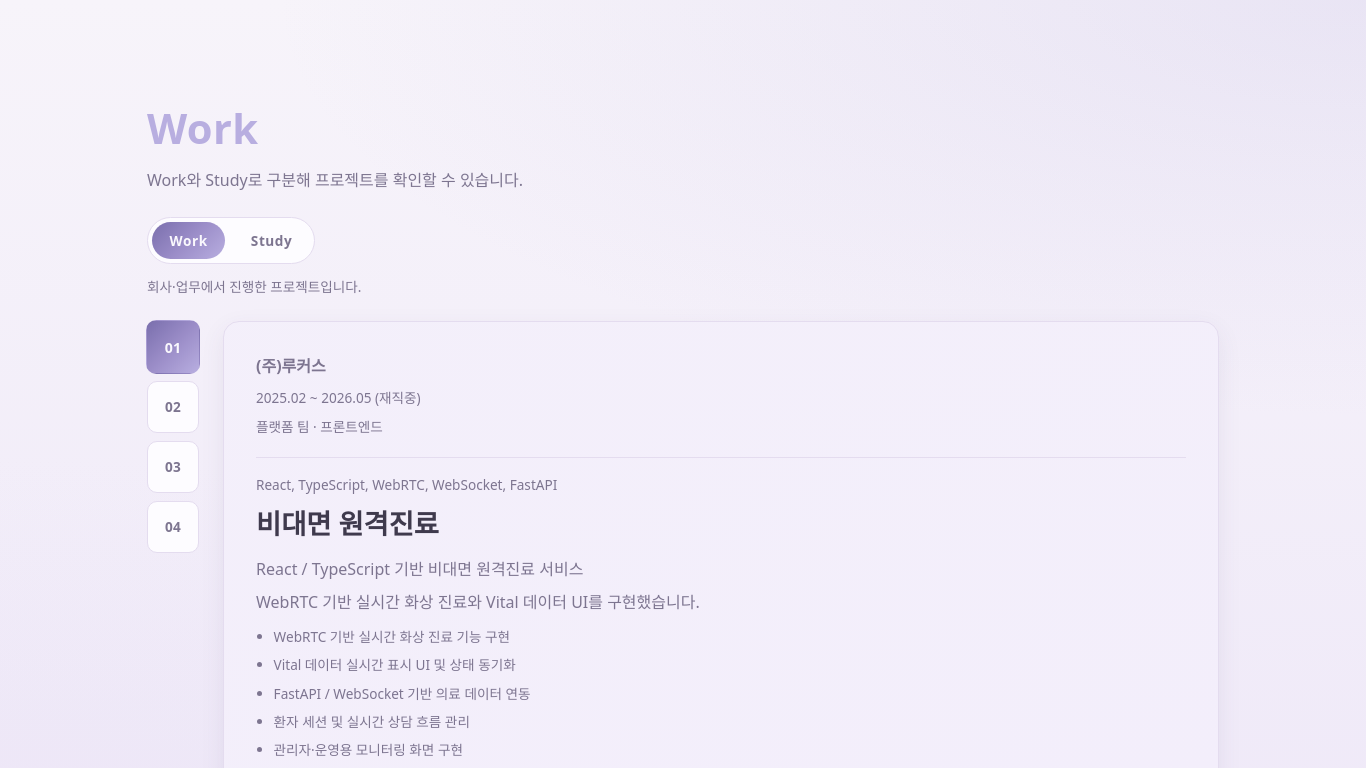
Test: ProjectSection › Study 탭에서 번호 클릭 시 해당 프로젝트만 표시된다
Click the tab "Study".
click(272, 241)  # box [233,222,310,259]
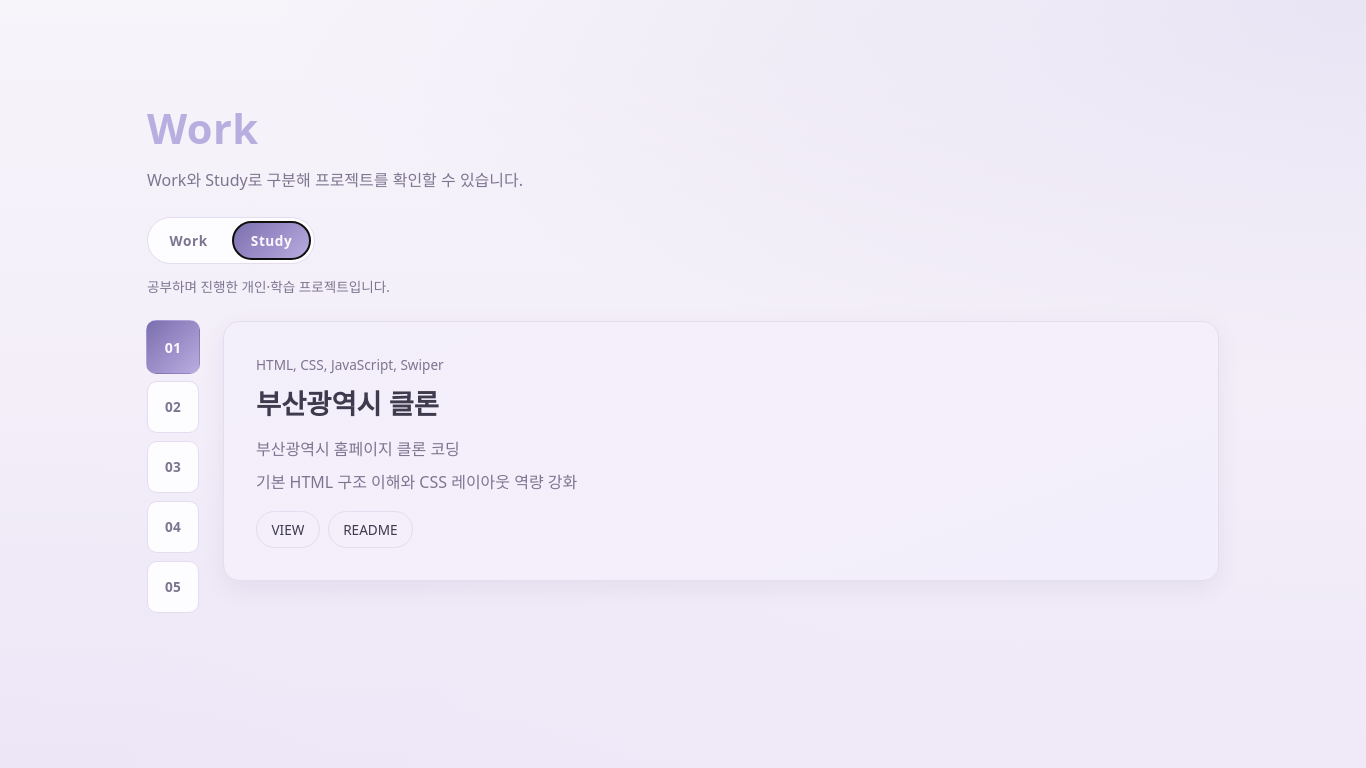
expect the heading "부산광역시 클론" is shown: met, box [256,385,439,422]
Click the button named "TODAY EAT 프로젝트 보기".
click(173, 407)  # box [147,381,199,433]
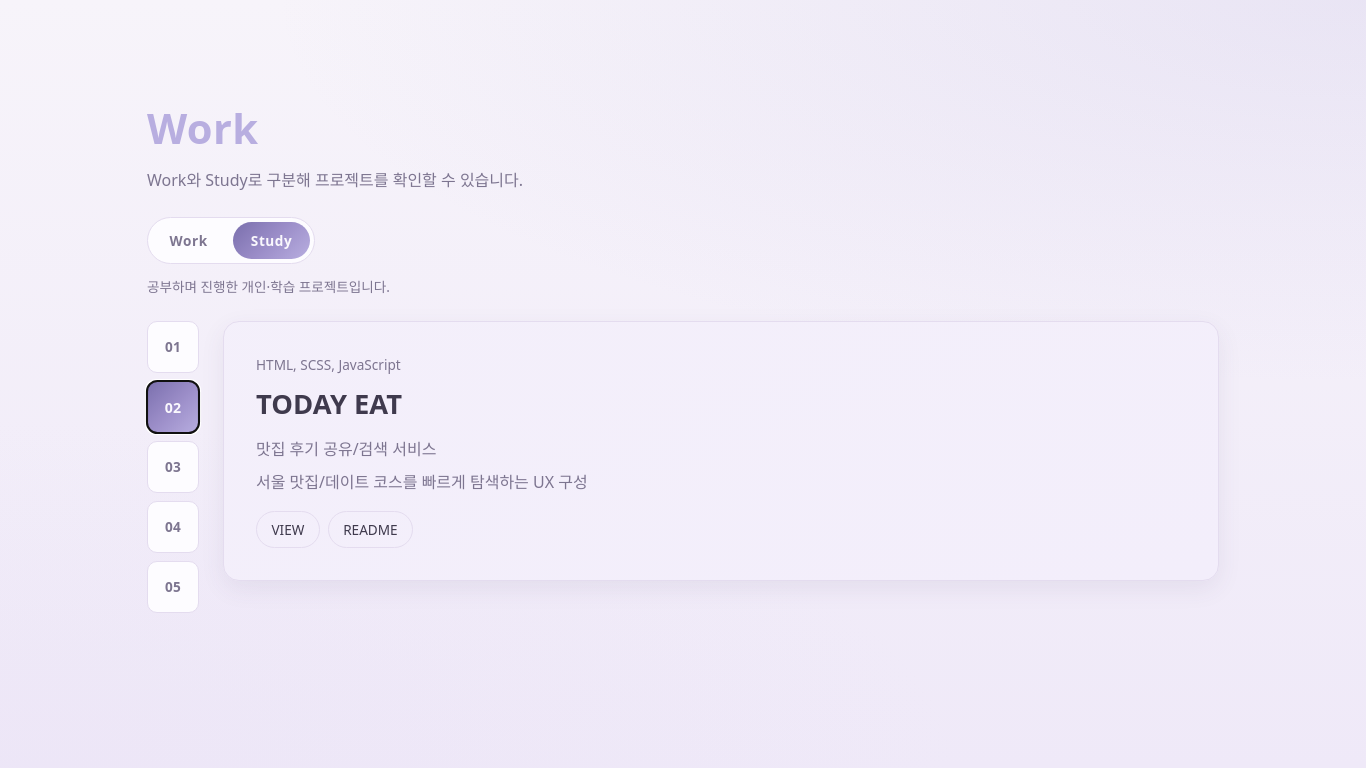
expect the heading "TODAY EAT" is shown: met, box [256,385,402,422]
